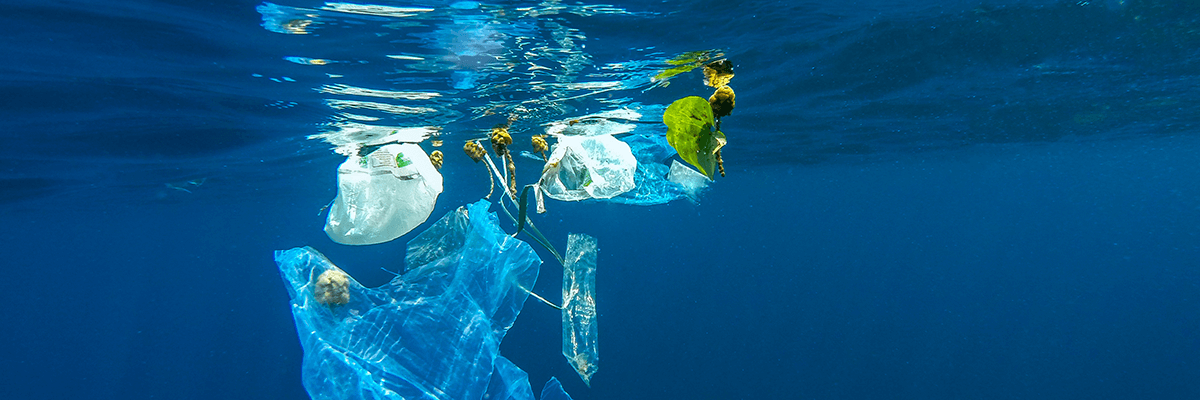litter: (244, 218, 646, 400), (313, 150, 450, 244), (523, 122, 645, 208)
